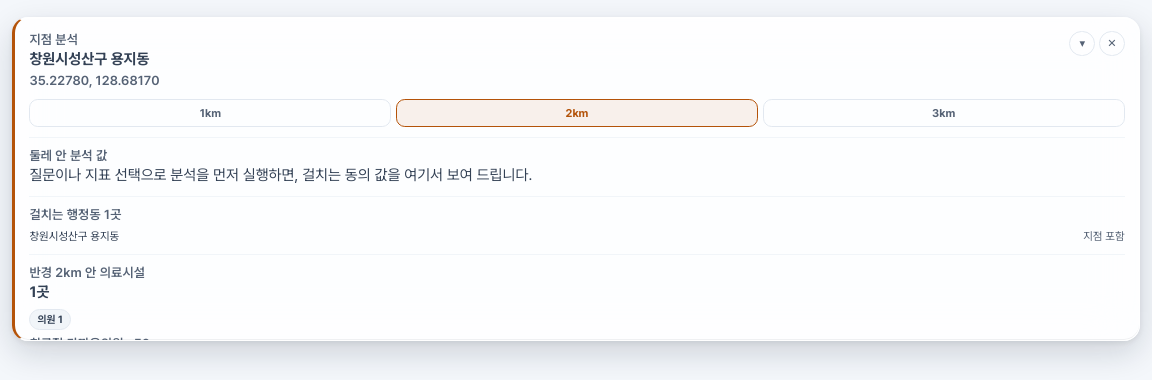
Test: 지점 분석 카드 접기 › 접어도 무엇을 보고 있는지는 남는다
Click the button with test id "probe-collapse".
click(1082, 44)  # box [1069,31,1095,56]
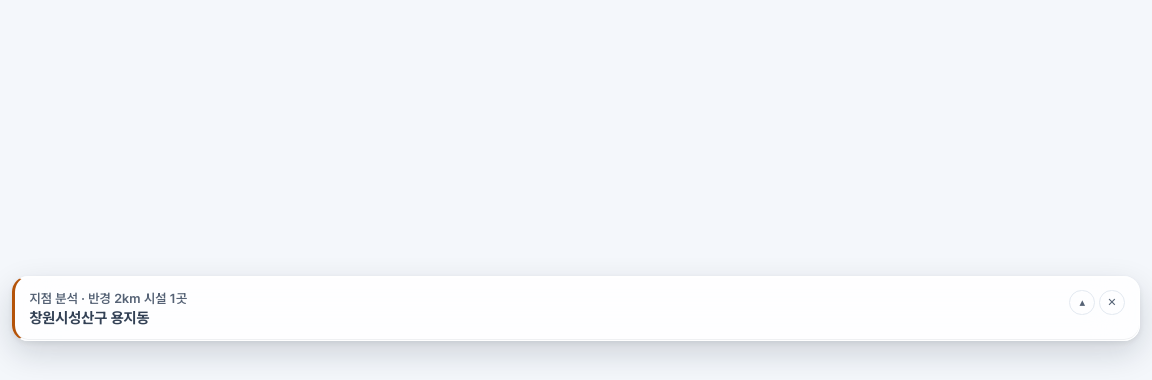
Expected: the text with test id "probe-region" reads "창원시성산구 용지동", [29,309,150,327]
Expected: the element with test id "probe-card" shows "반경 2km 시설 1곳", [78,291,187,306]
